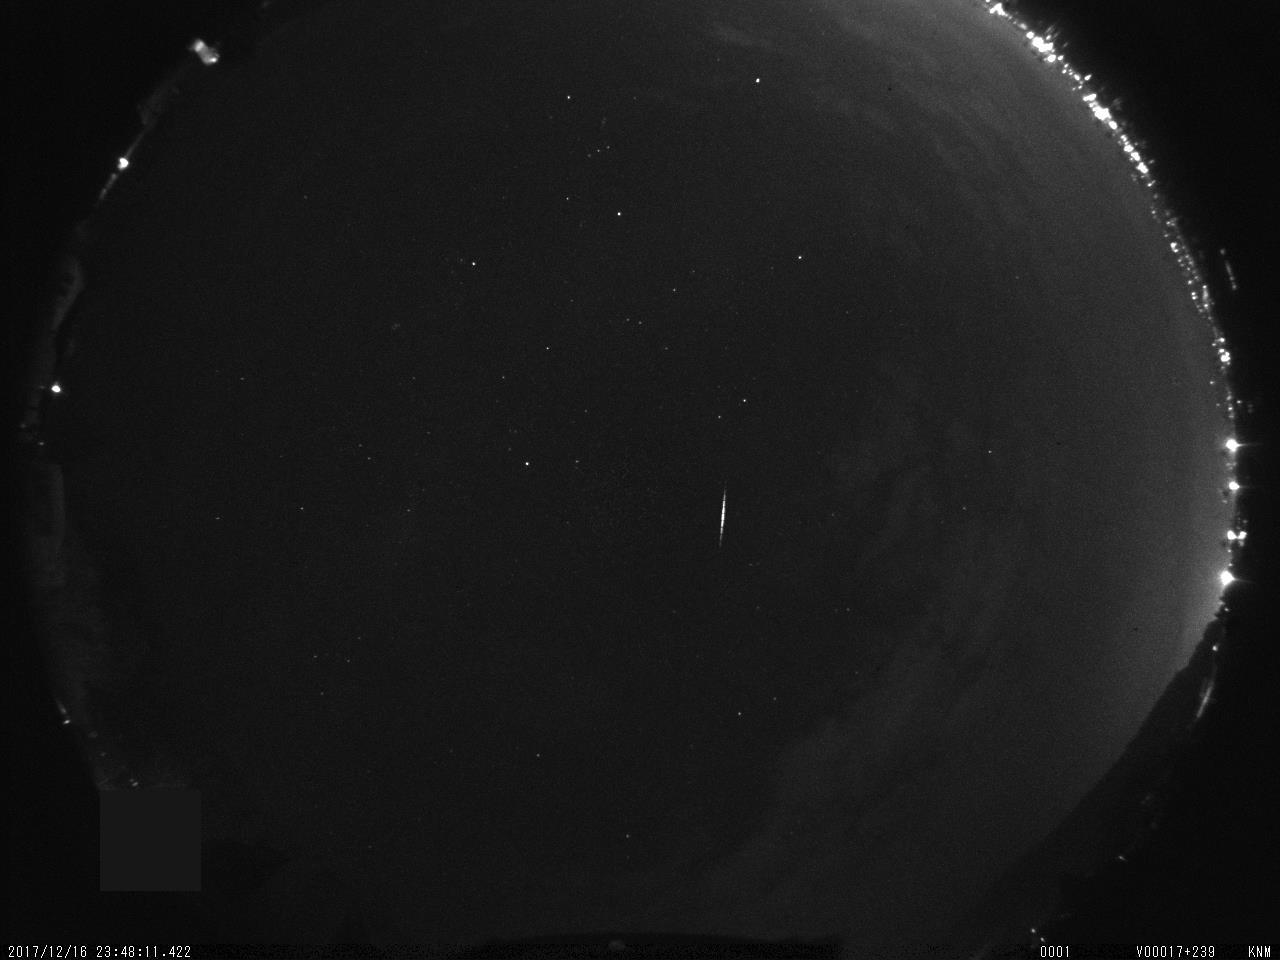meteor: (700, 476, 747, 551)
